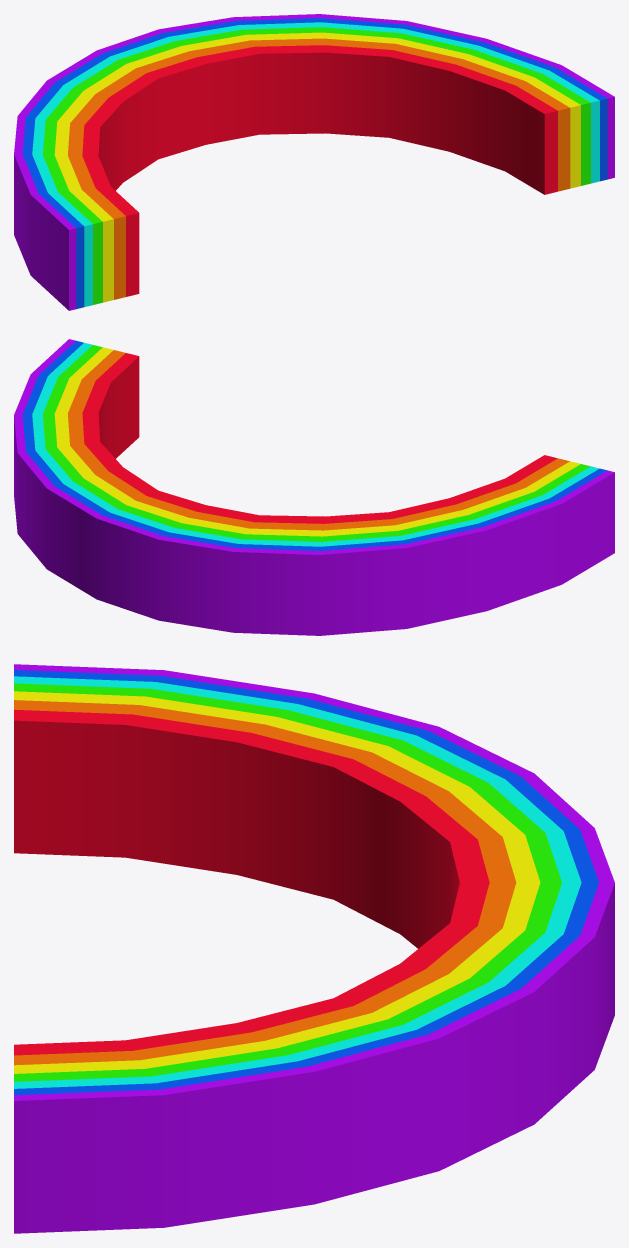
The model's file is rainbow.fbx.
3 renders of one model, top to bottom at view 1: azimuth 30°, elevation 25°; view 2: azimuth 150°, elevation 25°; view 3: azimuth 270°, elevation 25°, orthographic. The views are drawn at different scales.
Parts seen in each view (by area): view 1: pTorus2; view 2: pTorus2; view 3: pTorus2.
Part boxes in pixels (<box>): pTorus2: <box>14,14,614,310</box>; pTorus2: <box>14,339,614,635</box>; pTorus2: <box>14,664,614,1233</box>.
Bounding box in the file's own units: 4.83 × 0.6839 × 2.81.
